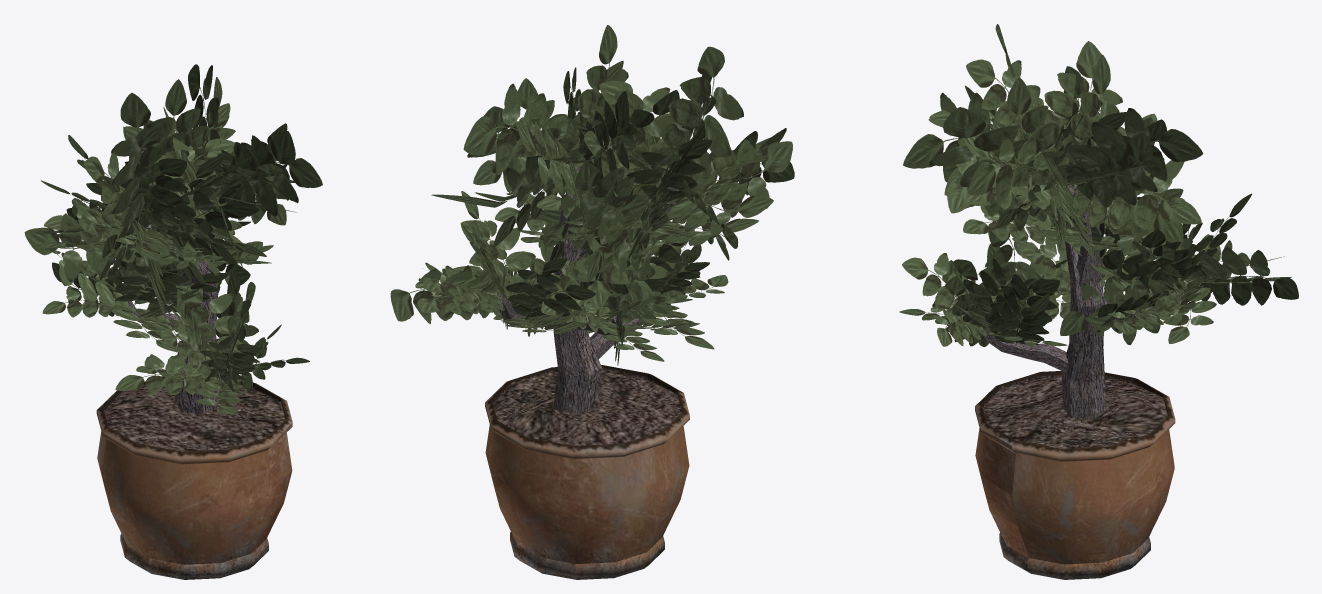
The model's file is plant.glb.
3 views of the same model, side by side, from view 1: azimuth 30°, elevation 25°; view 2: azimuth 150°, elevation 25°; view 3: azimuth 270°, elevation 25° (orthographic). The views are drawn at different scales.
Size of the model in its own units: 1.32 by 1.96 by 1.53.
3 materials, 3 textured.
